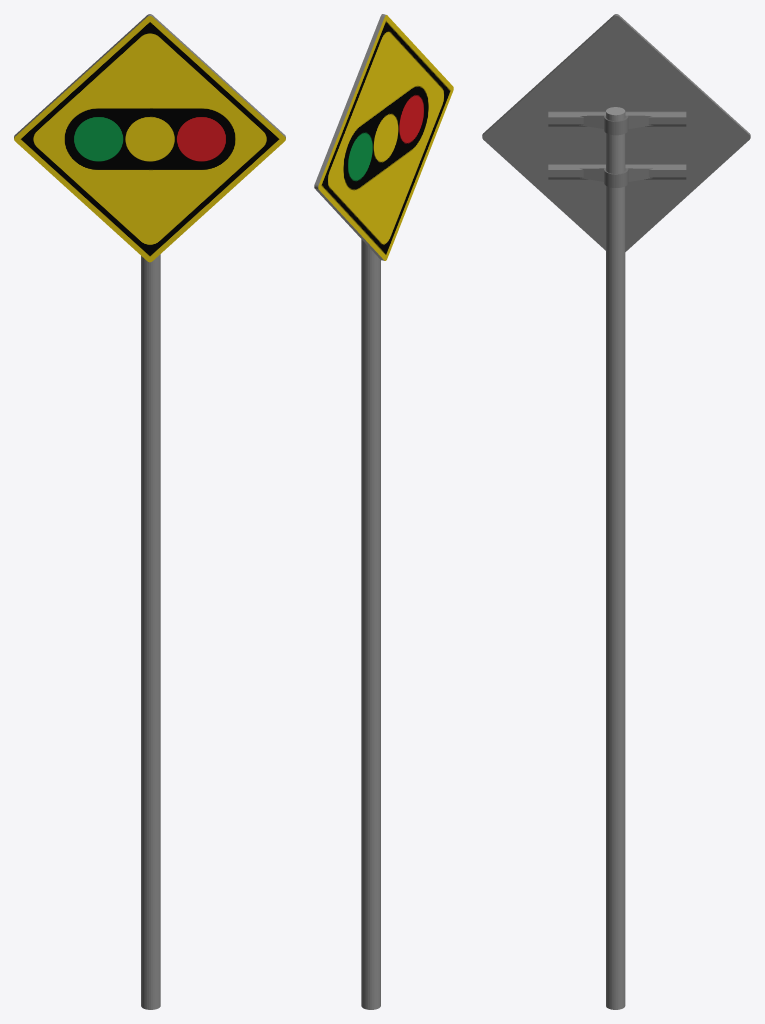
3 renders of one model, left to right at view 1: azimuth 90°, elevation 25°; view 2: azimuth 150°, elevation 25°; view 3: azimuth 270°, elevation 25°, orthographic.
Parts seen in each view (by area): view 1: 009, Prop; view 2: 009, Prop; view 3: 009, Prop.
Boxes of the visible parts, x1,y1,x2,y2 form: 009: (14,14,285,262); Prop: (141,254,160,1009); 009: (314,14,453,260); Prop: (361,239,380,1009); 009: (482,14,750,251); Prop: (548,107,686,1009).
Bounding box in the file's own units: 6.76 × 259 × 63.95.
